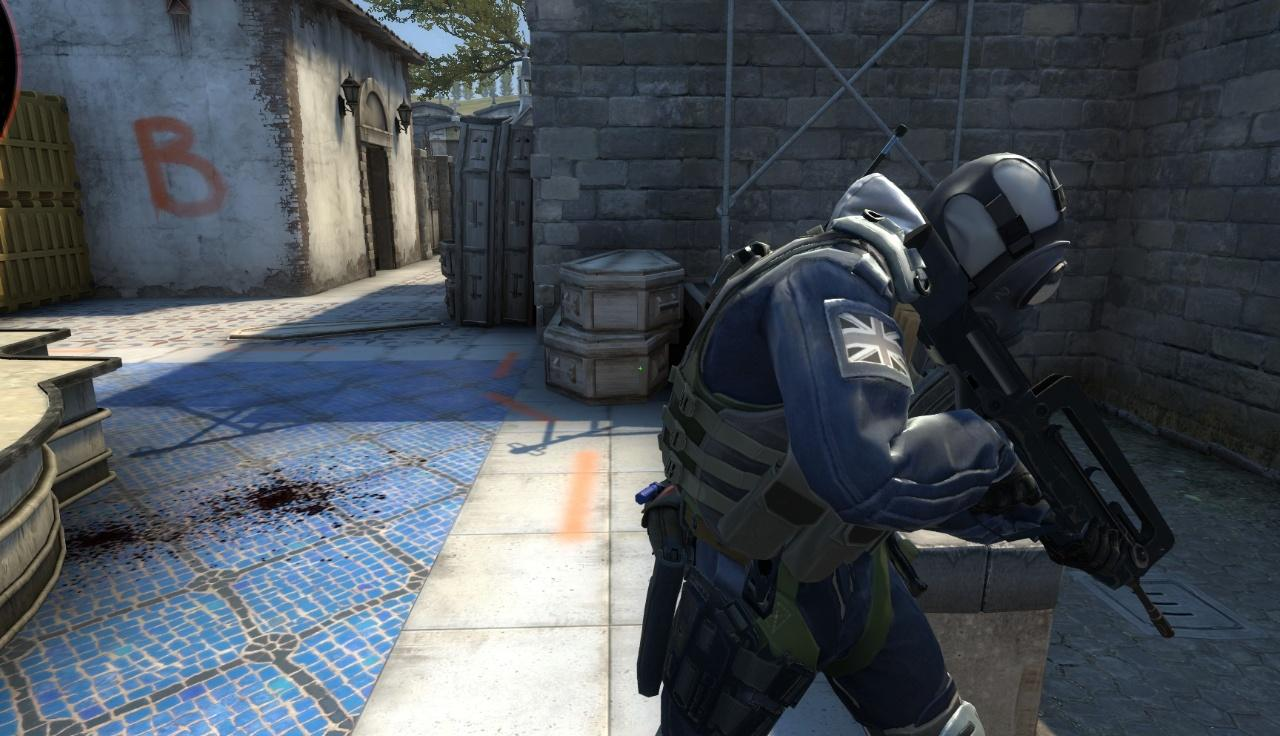ct: (639, 139, 1069, 736)
cthead: (914, 150, 1075, 331)
